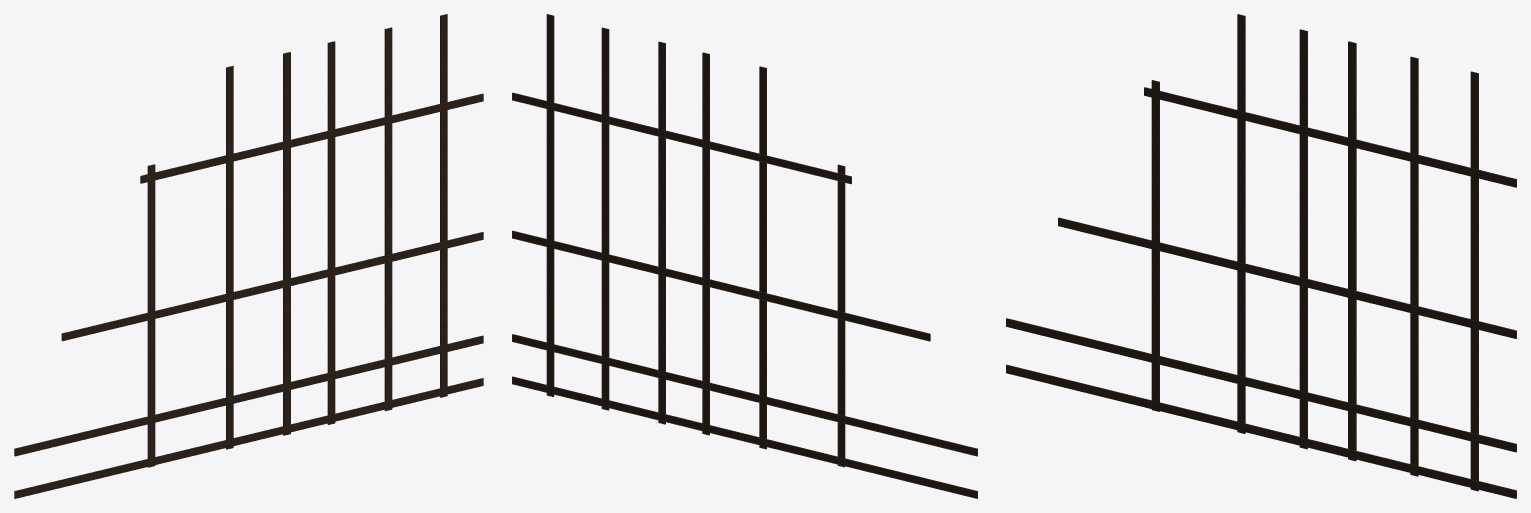
File: Extra wall 2.fbx
3 renders of one model, left to right at view 1: azimuth 30°, elevation 25°; view 2: azimuth 150°, elevation 25°; view 3: azimuth 330°, elevation 25°, orthographic. The views are drawn at different scales.
Parts seen in each view (by area): view 1: Extra detail wood.001; view 2: Extra detail wood.001; view 3: Extra detail wood.001.
Part boxes in pixels (x1=…): Extra detail wood.001: x1=14, y1=14, x2=483, y2=498; Extra detail wood.001: x1=512, y1=14, x2=977, y2=498; Extra detail wood.001: x1=1006, y1=14, x2=1516, y2=498.
Bounding box in the file's own units: 597 × 466 × 4.22.
1 material, 1 textured.
